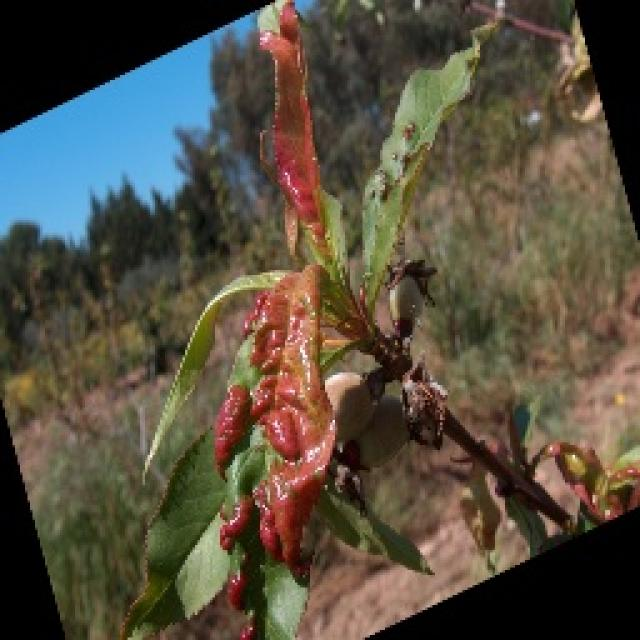peach_leaf_curl: (206, 257, 396, 575)
